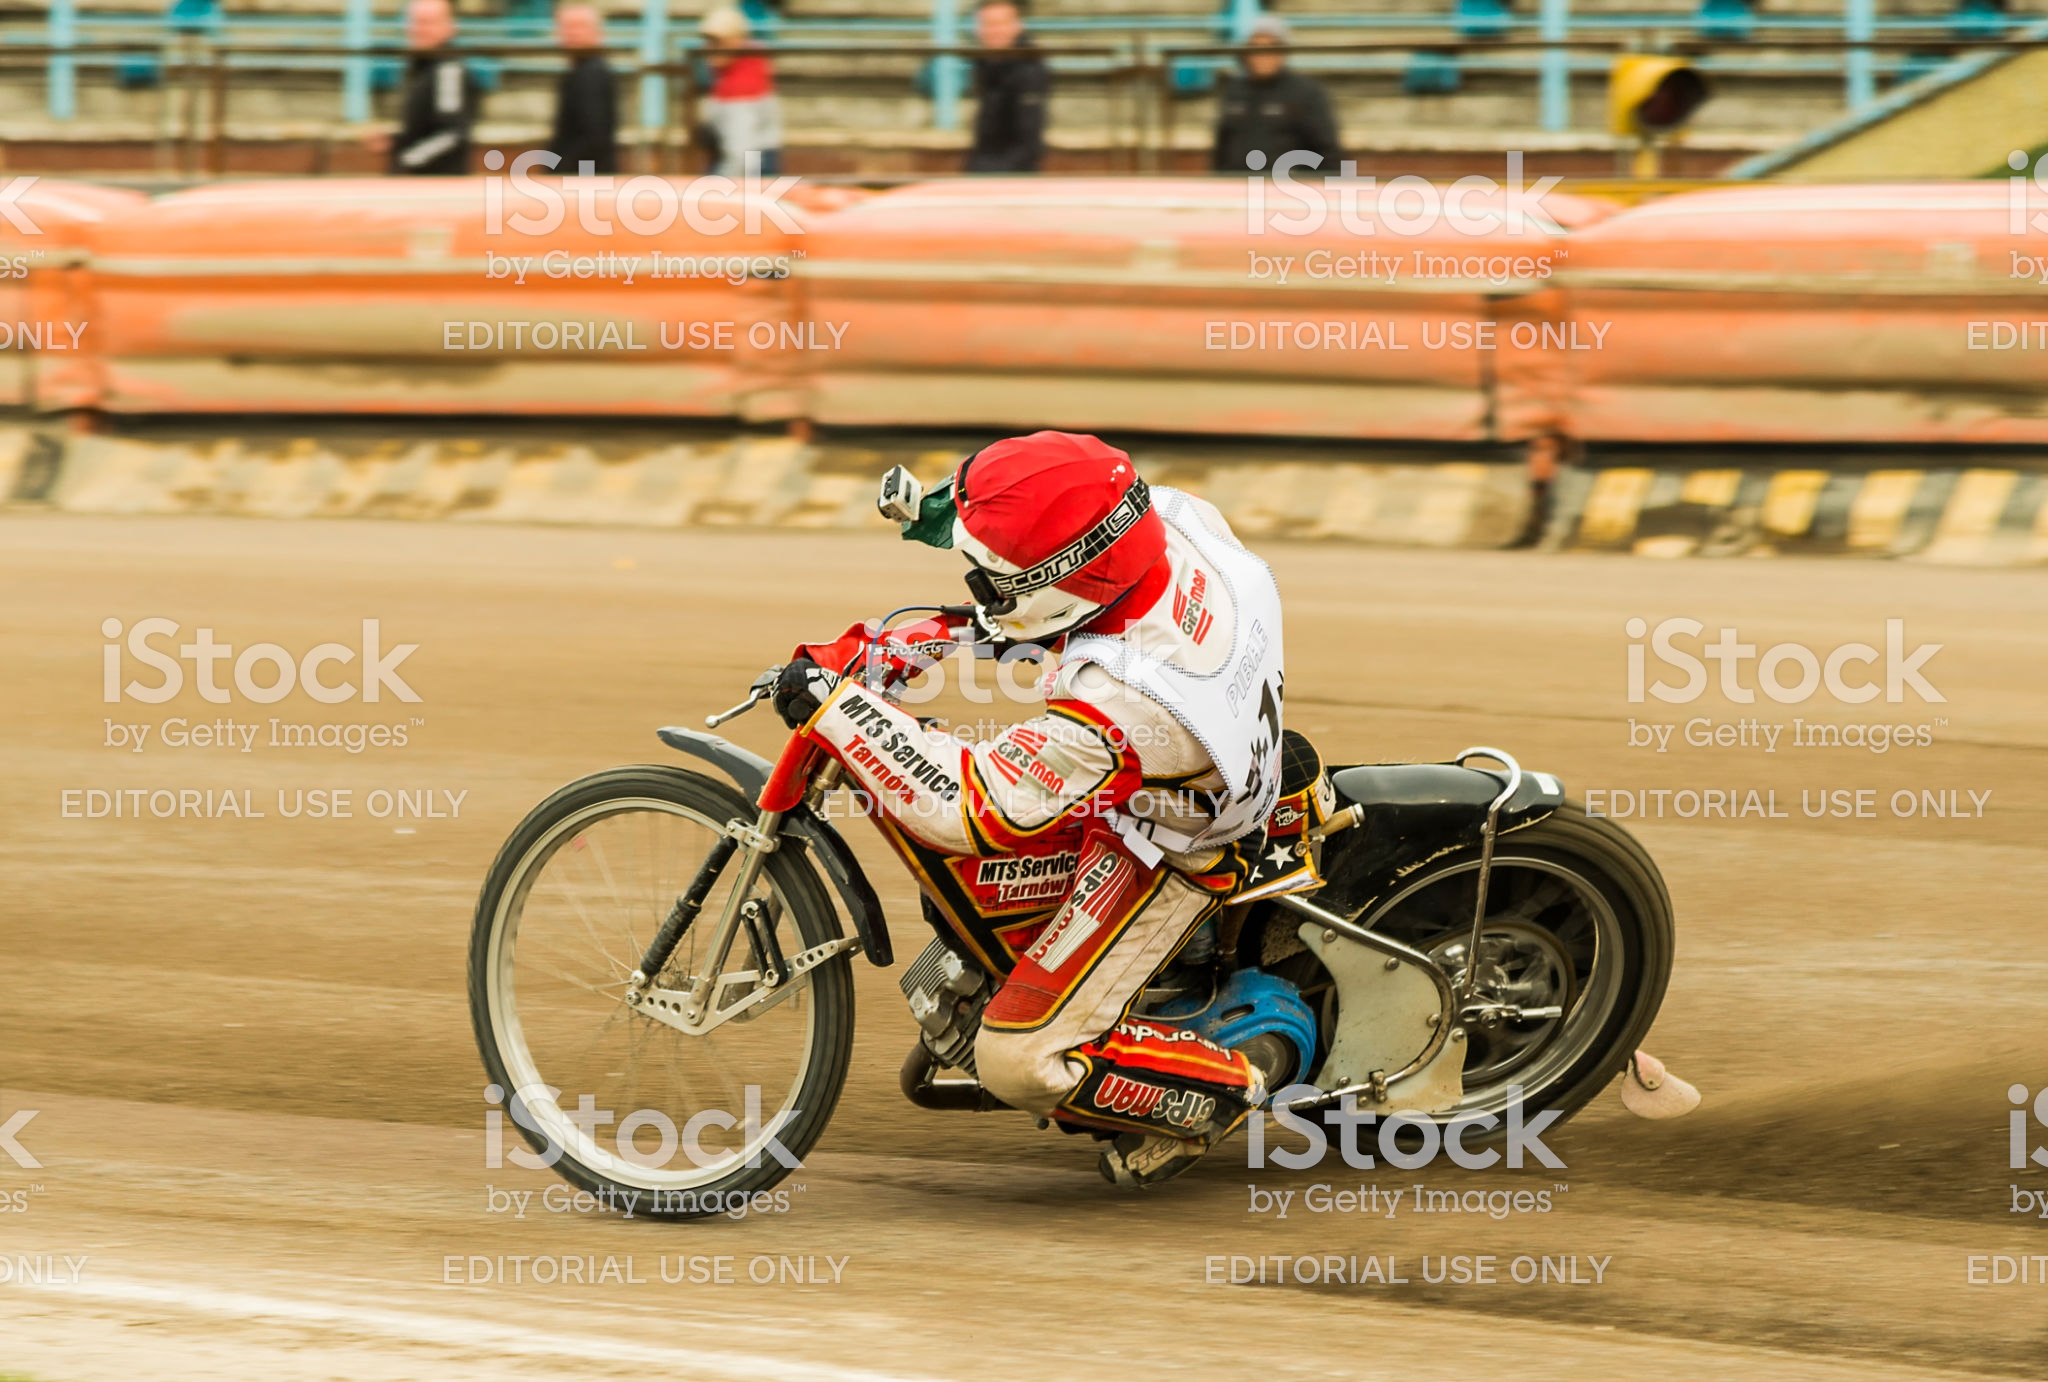helmet: (948, 415, 1161, 652)
